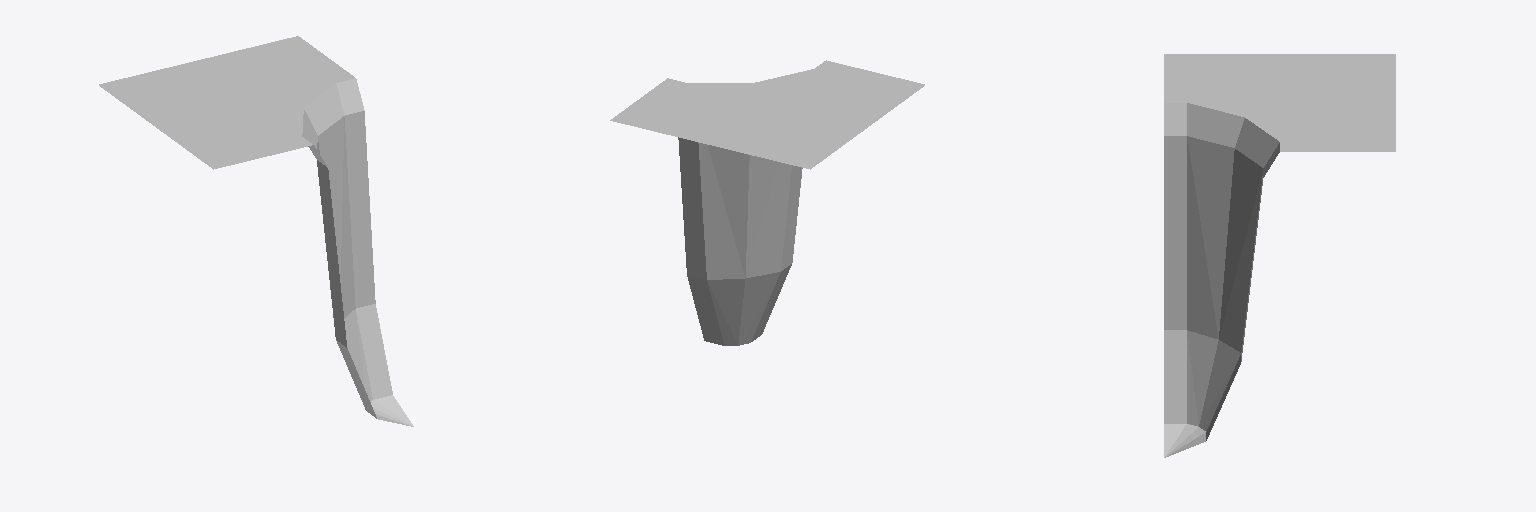
Rendered from wall_02.obj.
3 renders of one model, left to right at view 1: azimuth 30°, elevation 25°; view 2: azimuth 150°, elevation 25°; view 3: azimuth 270°, elevation 25°, orthographic.
Visible parts, largest first — view 1: wall_02_Cave_Wall_Inner.004; view 2: wall_02_Cave_Wall_Inner.004; view 3: wall_02_Cave_Wall_Inner.004.
Boxes of the visible parts, x1=… form: wall_02_Cave_Wall_Inner.004: x1=99, y1=36, x2=413, y2=426; wall_02_Cave_Wall_Inner.004: x1=610, y1=60, x2=924, y2=345; wall_02_Cave_Wall_Inner.004: x1=1164, y1=54, x2=1395, y2=457.
Size of the model in its own units: 1 by 1.46 by 1.